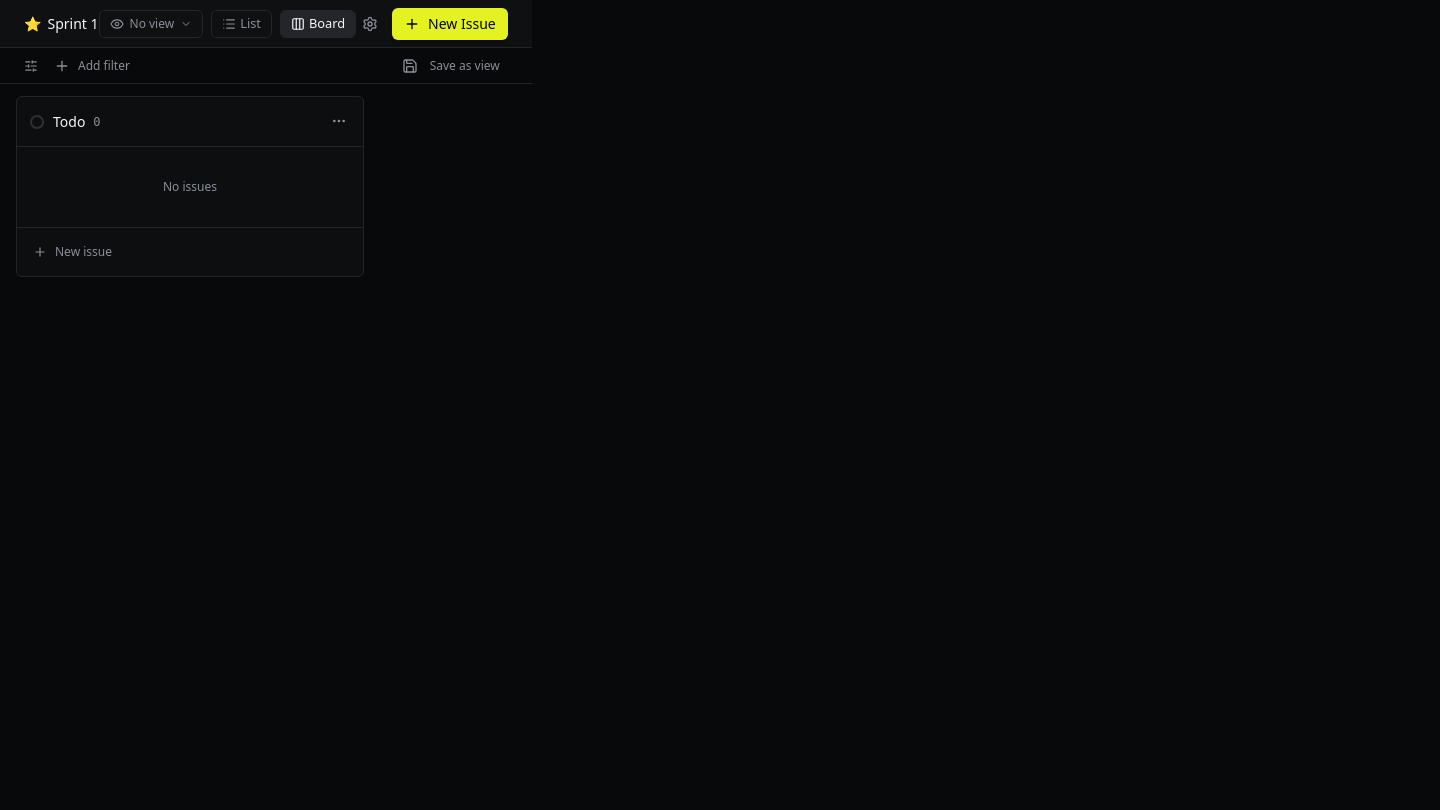
it: KanbanBoard — shared-view availability (canShare) › hides the shared option when the user has no Member row
Click the button "Save as view" at coordinates (451, 66), box left=394, top=54, right=508, bottom=78
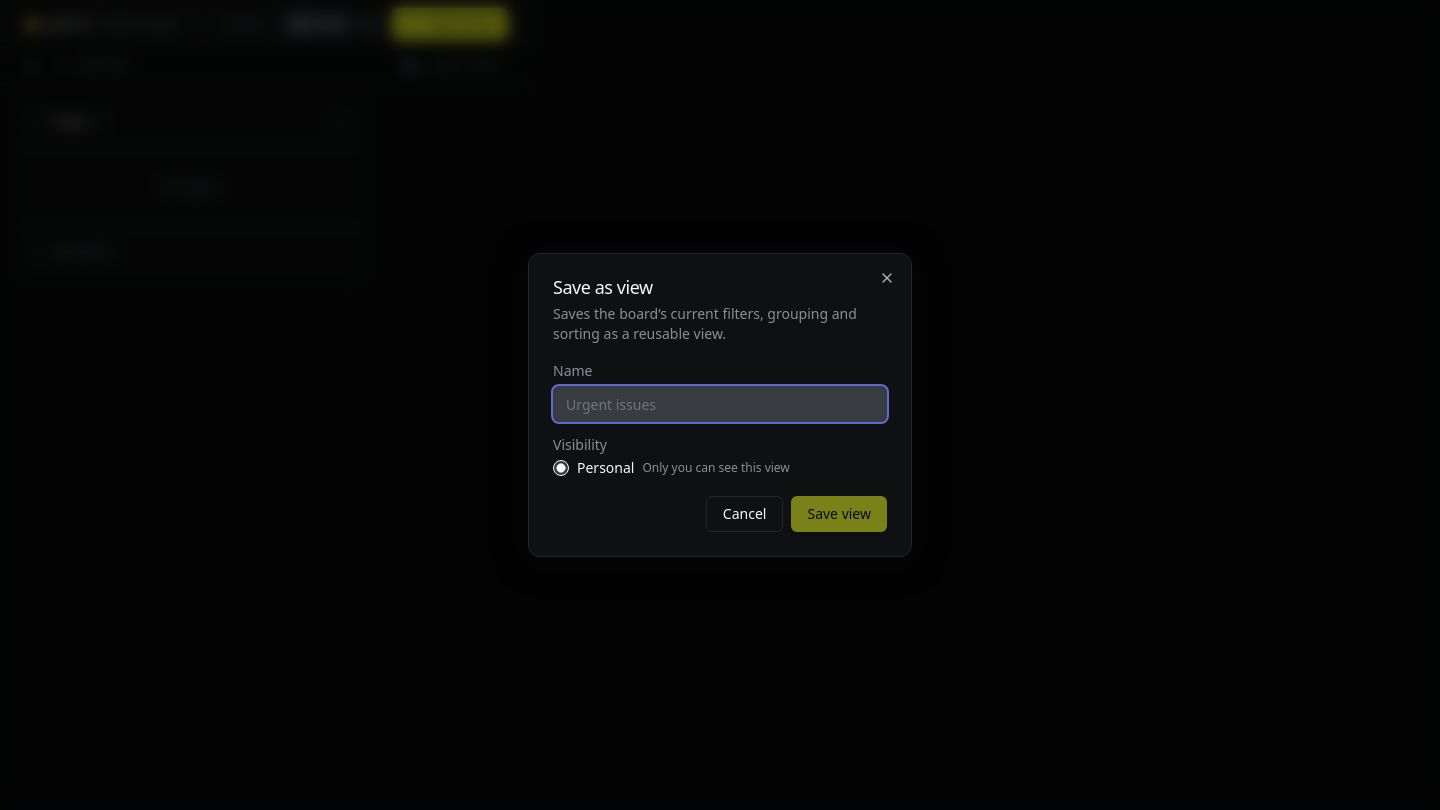
expect the radio button named "personal" is shown: met, box left=553, top=460, right=569, bottom=476
